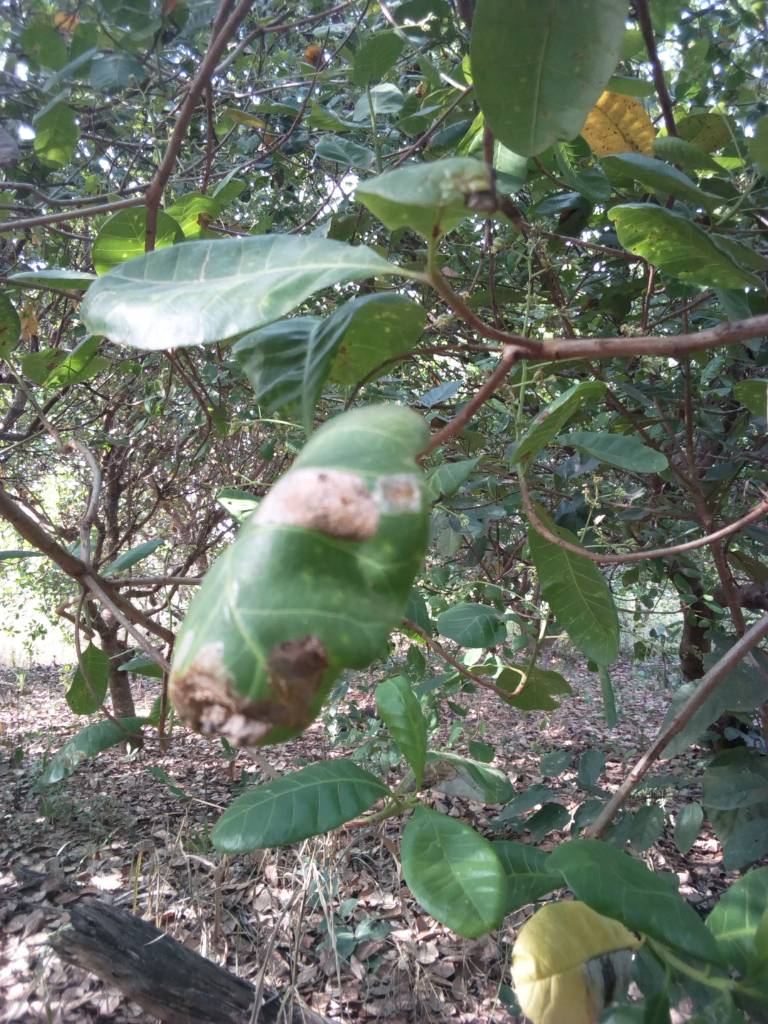Dysdercus wolkerii: (139, 385, 474, 753)
